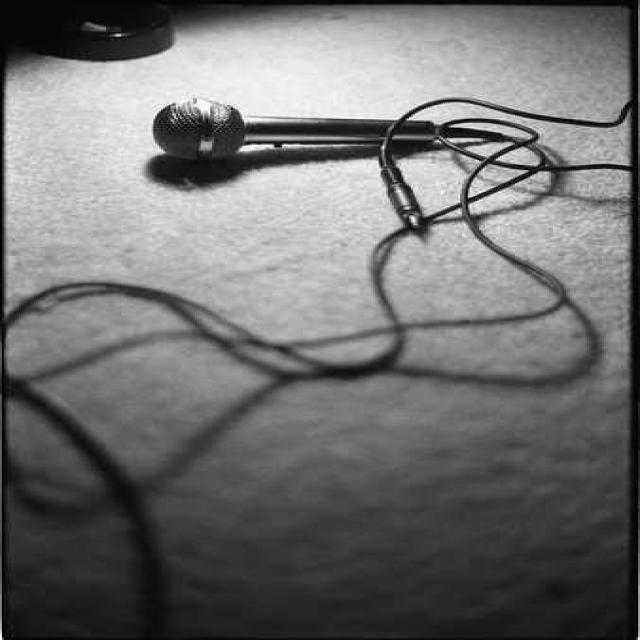microphone: (140, 84, 492, 179)
